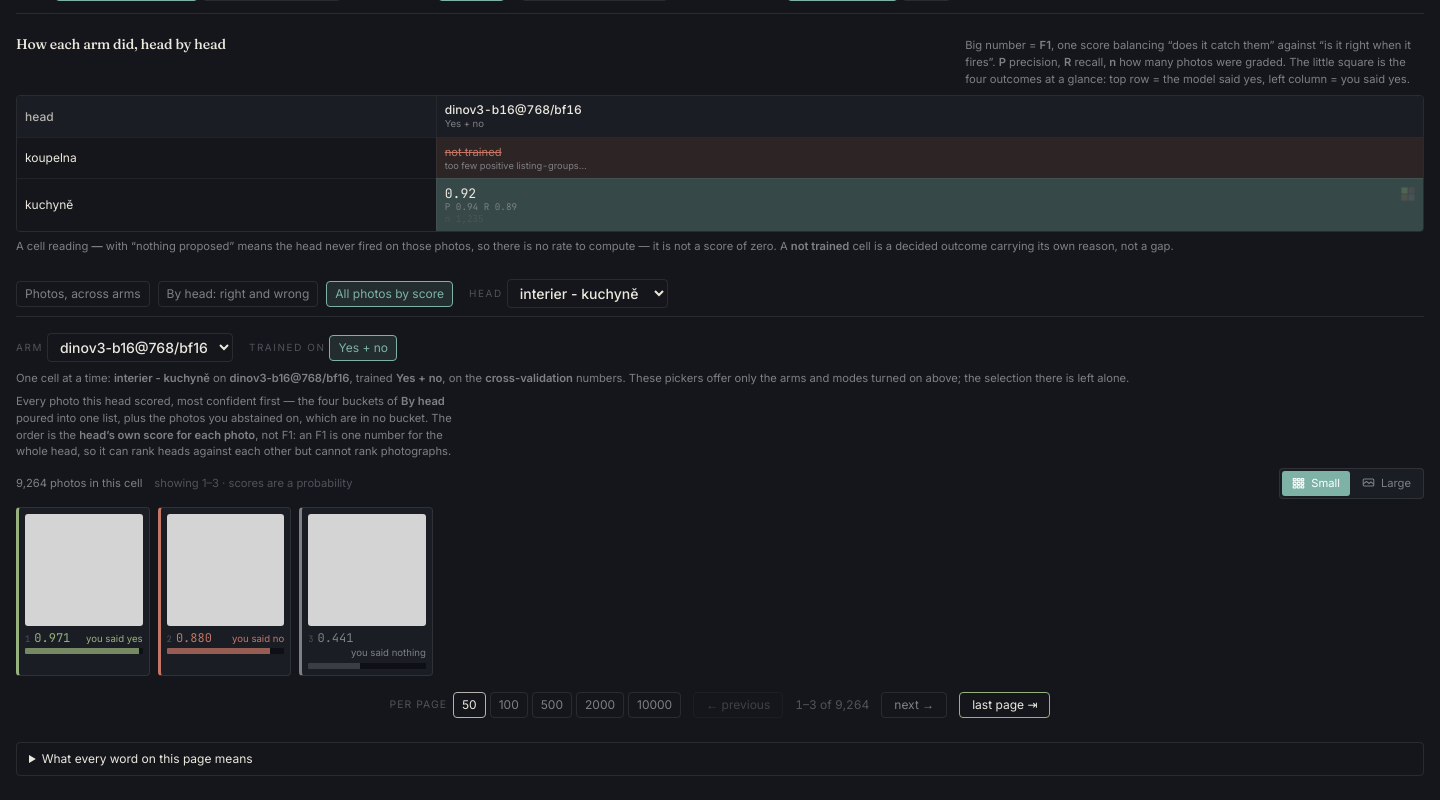
<NewDedupTaggingBakeoff> — view C, all photos by score › pages by offset, one page size at a time, and back to the top
(page scrolled)
Check: the button with test id "score-prev" is disabled, box [693,692,783,718]
Click the button with test id "score-next" at (914, 705), box [881,692,947,718]
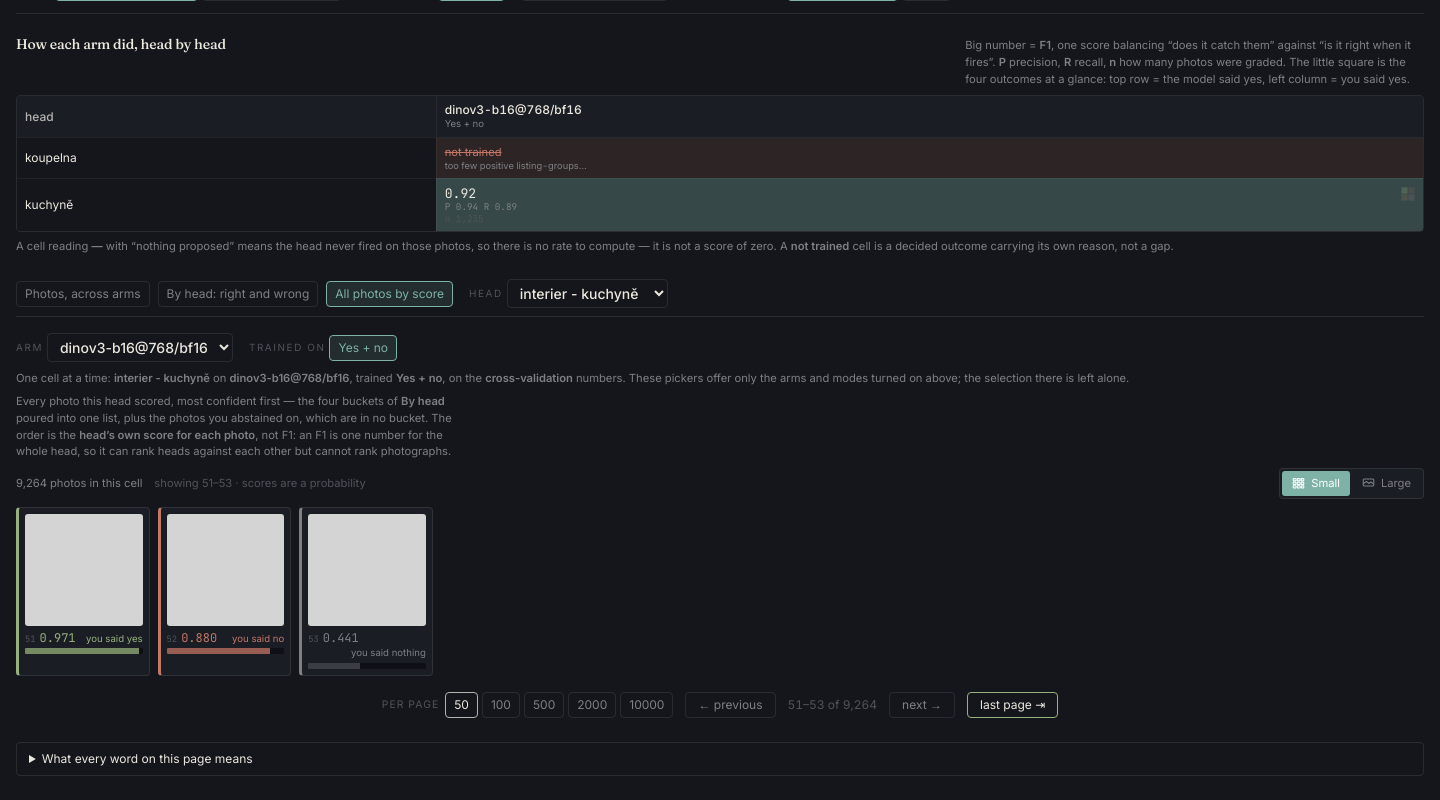
Check: the button with test id "score-prev" is enabled
Click the button with test id "score-prev" at (730, 705), box [685,692,776,718]
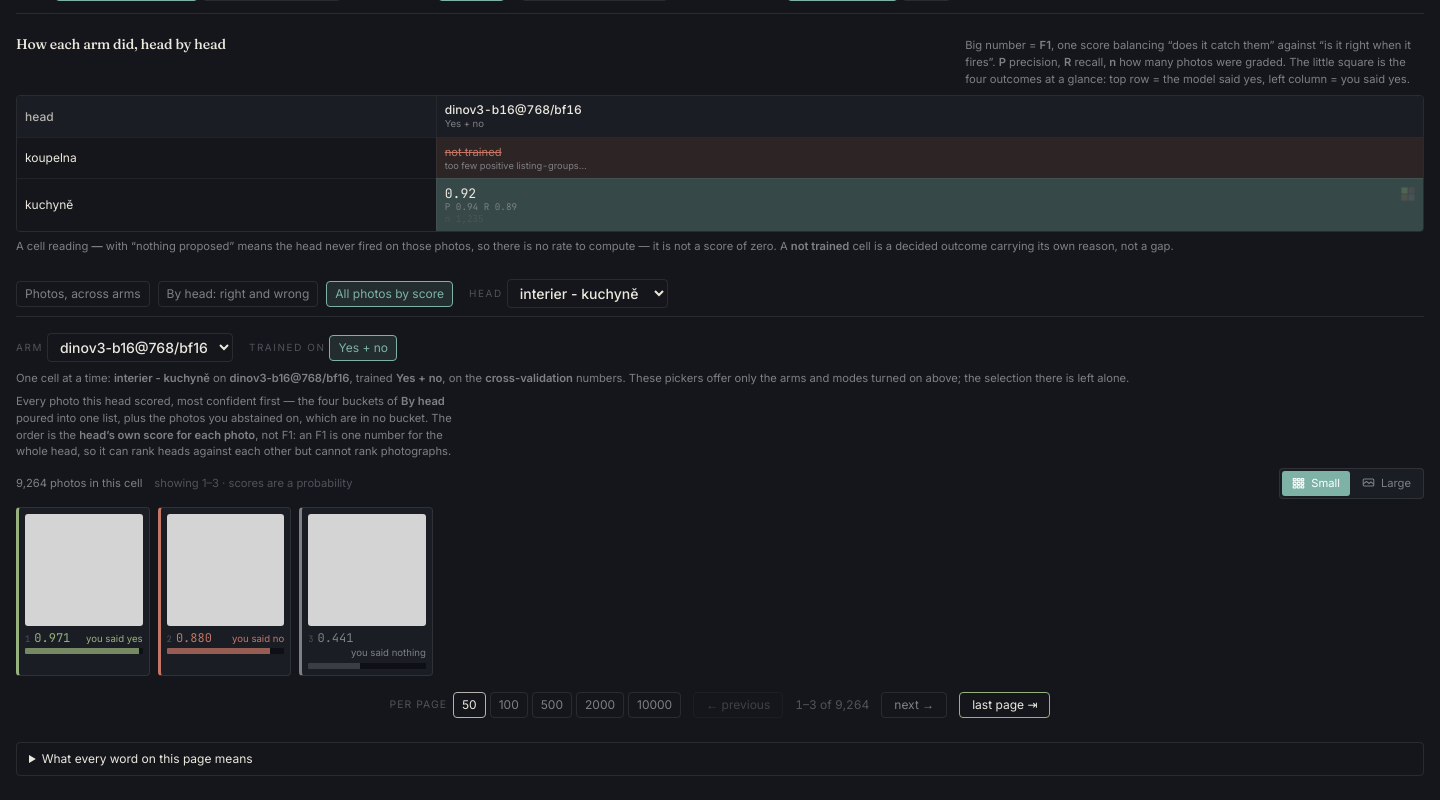
Check: the button with test id "score-prev" is disabled, box [693,692,783,718]
